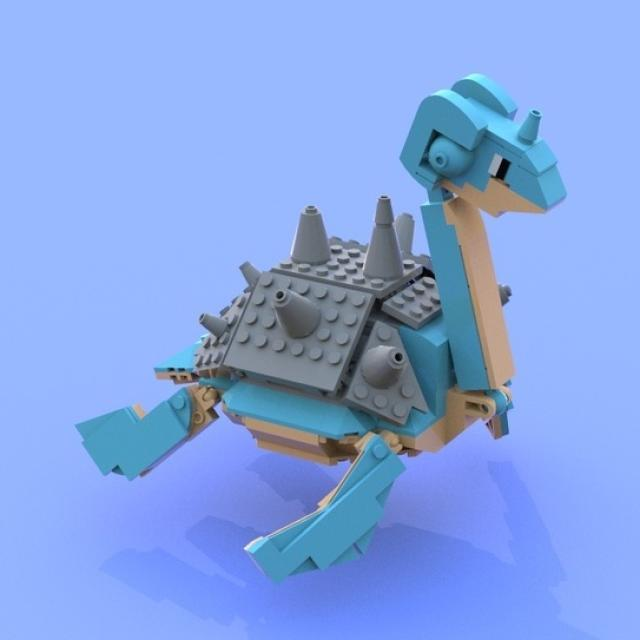Lapras: (168, 52, 574, 505)
